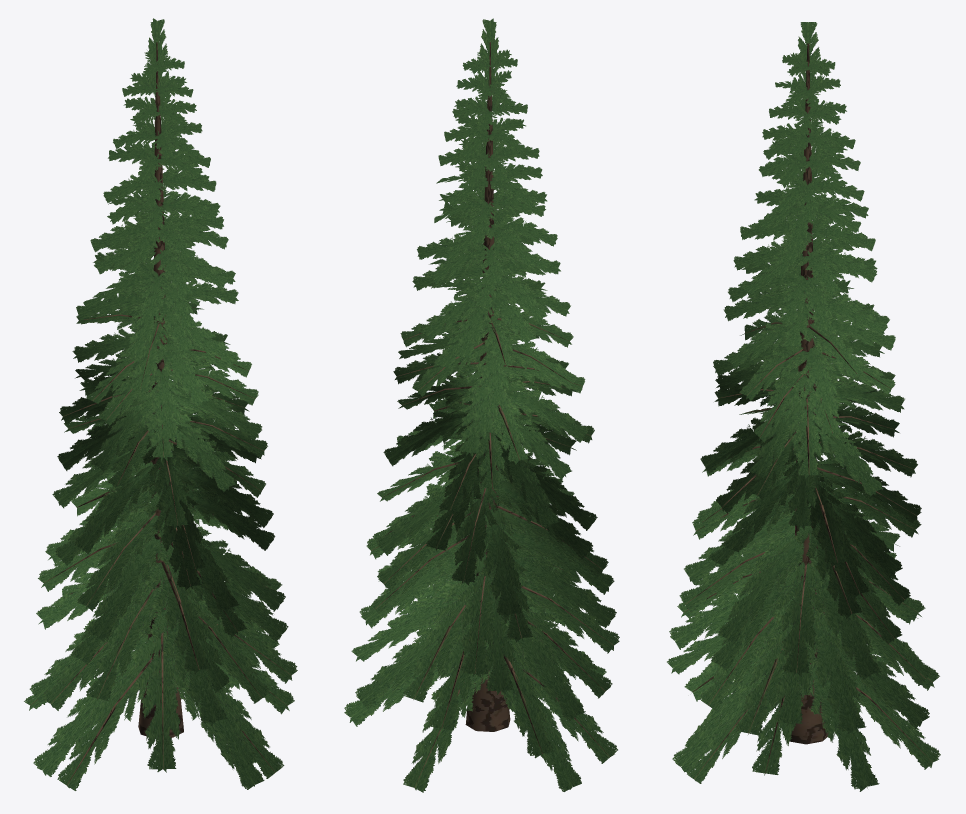
Rendered from spruce0_lod0.fbx.
The picture shows the model from 3 angles, left to right: view 1: azimuth 30°, elevation 25°; view 2: azimuth 150°, elevation 25°; view 3: azimuth 270°, elevation 25°; orthographic projection.
Visible parts, largest first — view 1: spruce0_lod0; view 2: spruce0_lod0; view 3: spruce0_lod0.
Part boxes in pixels (<box>): spruce0_lod0: <box>24,18,297,790</box>; spruce0_lod0: <box>344,18,619,792</box>; spruce0_lod0: <box>667,22,940,791</box>.
Bounding box in the file's own units: 6.22 × 17.77 × 6.26.
2 materials, 2 textured.
